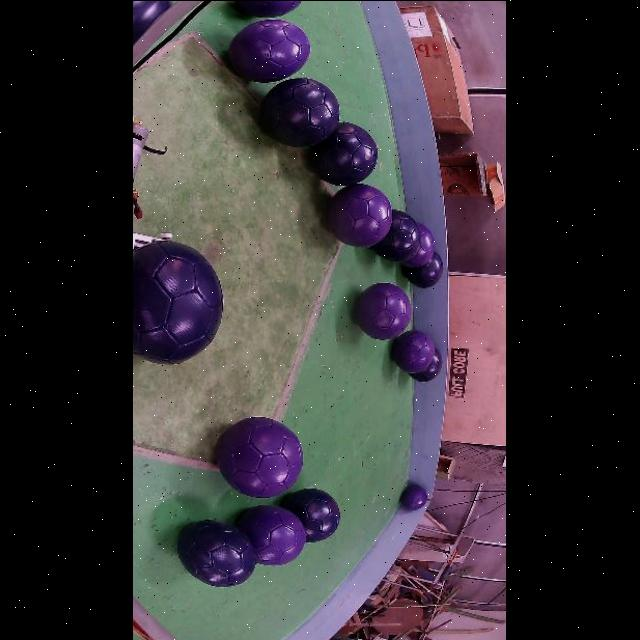B: (133, 240, 224, 365), (177, 519, 256, 587), (262, 78, 341, 146), (310, 122, 378, 185), (281, 488, 341, 543), (372, 209, 423, 262), (404, 252, 445, 288), (410, 348, 443, 382)
P: (216, 417, 303, 497), (229, 18, 311, 82), (237, 505, 307, 566), (328, 183, 393, 246), (356, 283, 412, 339), (393, 330, 436, 372), (402, 222, 436, 267), (236, 0, 302, 17), (402, 485, 428, 510)
